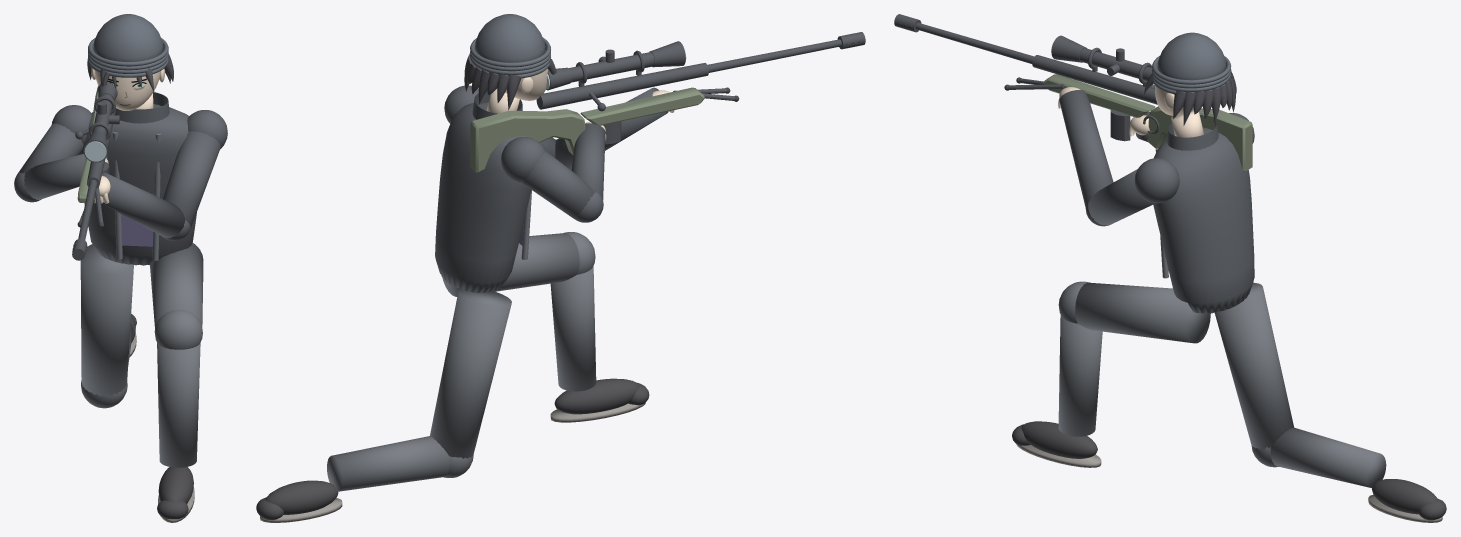
The model's file is akai.glb.
3 views of the same model, side by side, from view 1: azimuth 30°, elevation 25°; view 2: azimuth 150°, elevation 25°; view 3: azimuth 270°, elevation 25° (orthographic). The views are drawn at different scales.
Visible parts, largest first — view 1: Akai, Rifle; view 2: Akai, Rifle; view 3: Akai, Rifle.
Part boxes in pixels (box(x1,y1,x2,y2)): Akai: box(14, 14, 227, 522); Rifle: box(72, 82, 119, 260); Akai: box(256, 14, 674, 522); Rifle: box(470, 32, 865, 173); Akai: box(1012, 32, 1446, 522); Rifle: box(894, 14, 1252, 171).
Bounding box in the file's own units: 1.1 × 1.37 × 1.61.
13 materials, 1 textured.
